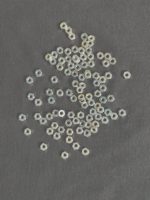nut: (61, 152, 69, 160), (82, 148, 90, 156), (72, 143, 80, 151), (46, 128, 54, 136), (24, 128, 32, 136), (76, 127, 84, 135), (58, 110, 66, 118), (86, 114, 94, 122), (101, 117, 109, 125), (104, 109, 112, 117), (56, 89, 64, 97), (27, 93, 35, 101), (105, 72, 113, 80), (71, 70, 79, 78), (74, 64, 82, 72), (97, 52, 105, 60), (58, 57, 66, 65), (85, 46, 93, 54), (81, 33, 89, 41), (88, 35, 96, 43), (68, 33, 76, 41), (65, 27, 73, 35), (60, 22, 68, 30), (123, 72, 132, 79), (40, 144, 48, 151), (66, 136, 73, 144), (53, 133, 61, 140), (66, 129, 74, 136), (51, 123, 59, 130), (84, 130, 91, 138), (91, 126, 98, 134), (65, 120, 73, 127), (79, 121, 87, 128), (39, 118, 47, 125), (34, 113, 42, 120), (19, 114, 26, 122), (46, 113, 53, 121), (95, 113, 102, 121), (119, 109, 126, 117), (97, 107, 105, 114), (90, 108, 97, 116), (94, 103, 102, 110), (88, 100, 96, 107), (81, 102, 89, 109), (100, 97, 108, 104), (107, 95, 115, 102), (79, 98, 87, 105), (95, 90, 102, 98), (70, 95, 77, 103), (66, 89, 73, 97), (34, 99, 42, 106), (76, 87, 84, 94), (79, 82, 86, 90), (93, 80, 101, 87), (35, 70, 43, 77), (26, 77, 34, 84), (99, 77, 107, 84), (93, 72, 100, 80), (78, 74, 86, 81), (84, 72, 92, 79), (64, 69, 72, 76), (56, 64, 64, 71), (68, 62, 75, 70), (81, 61, 88, 69), (88, 60, 95, 68), (103, 60, 110, 68), (109, 58, 117, 65), (45, 54, 53, 61), (57, 47, 64, 55), (72, 55, 79, 63), (65, 48, 72, 56), (87, 53, 95, 60), (72, 46, 79, 54), (58, 127, 65, 134), (73, 118, 80, 125), (93, 121, 100, 128), (52, 110, 59, 117), (68, 112, 75, 119), (78, 112, 85, 119), (111, 113, 118, 120), (86, 94, 93, 101), (100, 85, 107, 92), (48, 97, 55, 104), (46, 89, 53, 96), (72, 81, 79, 88), (51, 77, 58, 84), (84, 70, 91, 77), (105, 53, 112, 60), (65, 56, 72, 63), (51, 51, 58, 58), (74, 57, 81, 64), (80, 54, 87, 61), (78, 47, 85, 54), (82, 41, 89, 48), (49, 59, 57, 65), (86, 122, 92, 129), (78, 95, 85, 101), (88, 41, 94, 47)
